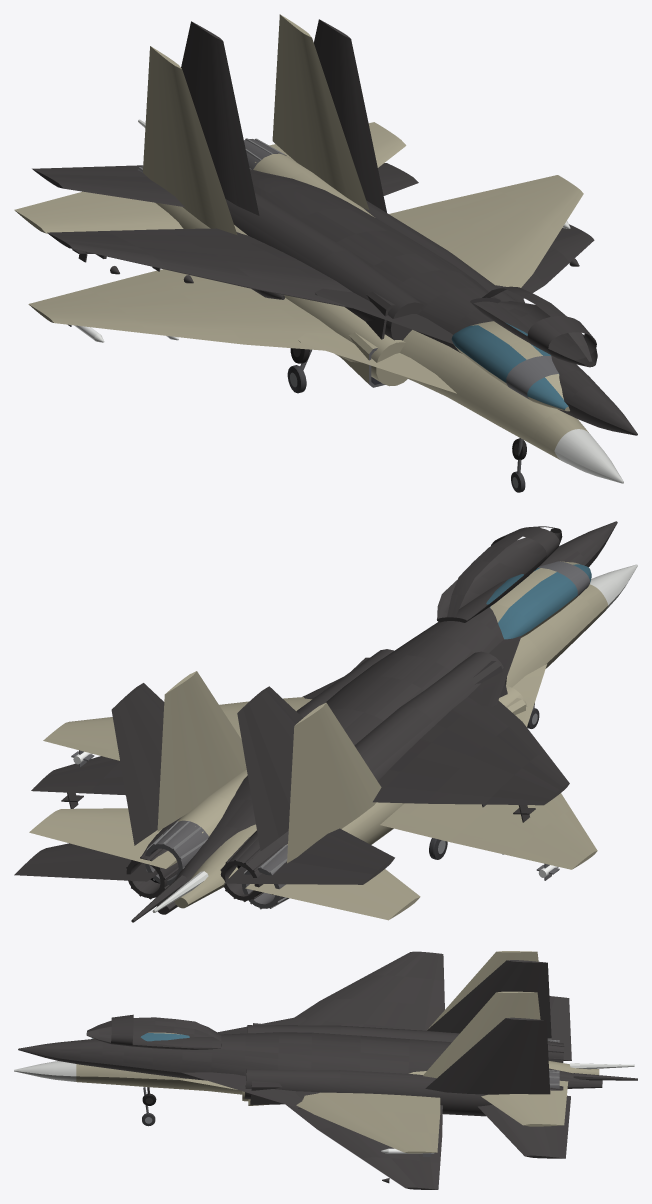
The model's file is jet__su_35s.glb.
3 renders of one model, top to bottom at view 1: azimuth 30°, elevation 25°; view 2: azimuth 150°, elevation 25°; view 3: azimuth 270°, elevation 25°, orthographic. The views are drawn at different scales.
Visible parts, largest first — view 1: Fuselage_Mesh, Wreck; view 2: Wreck, Fuselage_Mesh; view 3: Wreck, Fuselage_Mesh.
Part boxes in pixels (bbox=[...]): Fuselage_Mesh: bbox=[14, 14, 623, 492]; Wreck: bbox=[32, 19, 637, 459]; Wreck: bbox=[14, 521, 617, 922]; Fuselage_Mesh: bbox=[29, 561, 637, 920]; Wreck: bbox=[18, 951, 637, 1189]; Fuselage_Mesh: bbox=[14, 951, 634, 1156].
Size of what is drawn, in the model's own units: 15.03 by 6.63 by 23.38.
